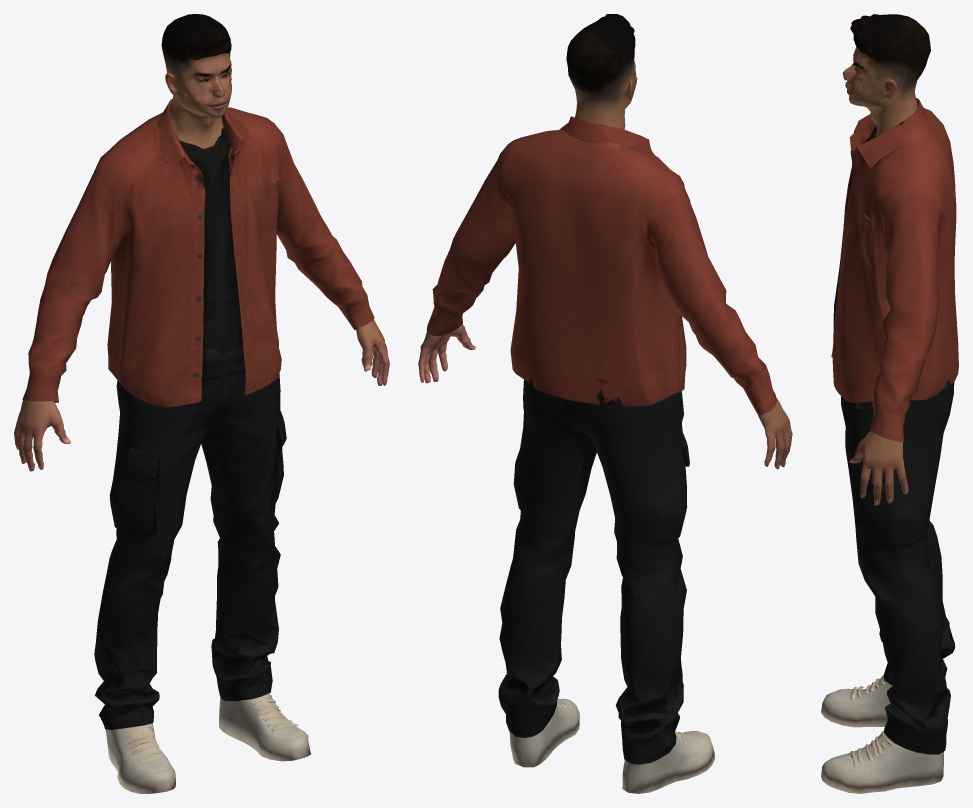
File: luis-mendoza.glb
3 views of the same model, side by side, from view 1: azimuth 30°, elevation 25°; view 2: azimuth 150°, elevation 25°; view 3: azimuth 270°, elevation 25° (orthographic).
Parts seen in each view (by area): view 1: geometry_0; view 2: geometry_0; view 3: geometry_0.
Boxes of the visible parts, x1=… form: geometry_0: x1=14, y1=14, x2=389, y2=793; geometry_0: x1=418, y1=14, x2=792, y2=793; geometry_0: x1=821, y1=14, x2=958, y2=793.
Bounding box in the file's own units: 0.4873 × 0.9507 × 0.1616.
Materials: 1 (1 with a texture image).
